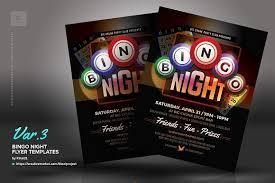Printing industry: (52, 6, 275, 180)
